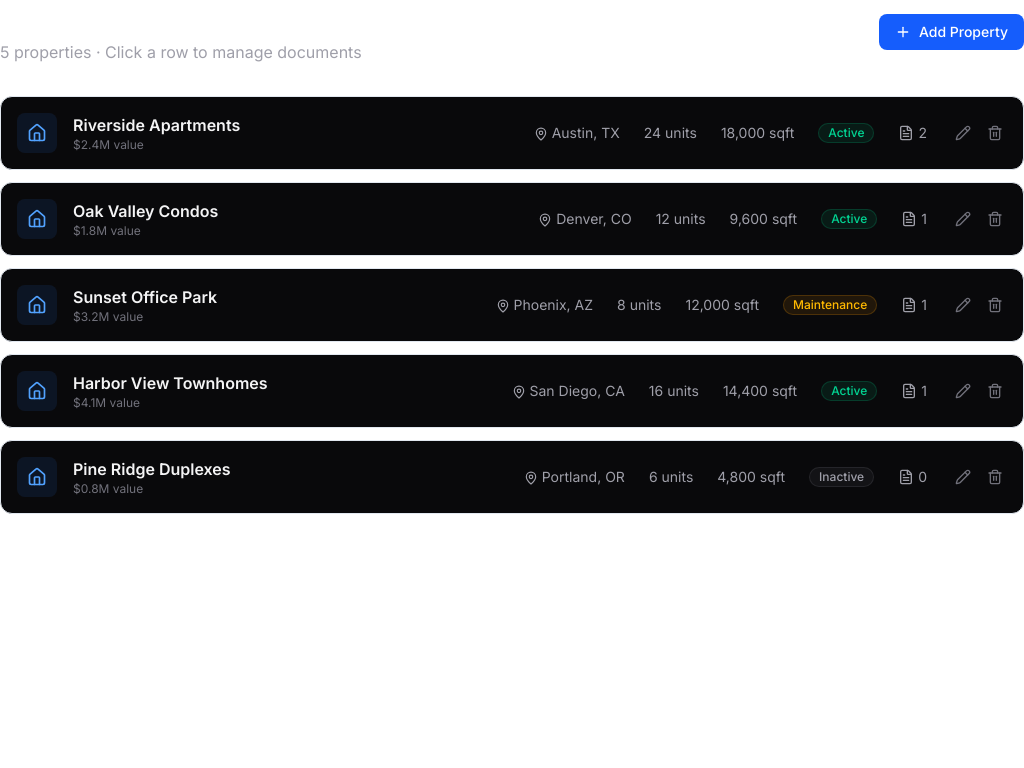
Test: PropertiesPage (Sprint 5) › opens the Add Document modal within an expanded property
// Expand Riverside
What coordinates should you click on to do the following:
click the text "Riverside Apartments"
I would click on:
 (157, 125)
Its box is 73,113 -> 240,137.
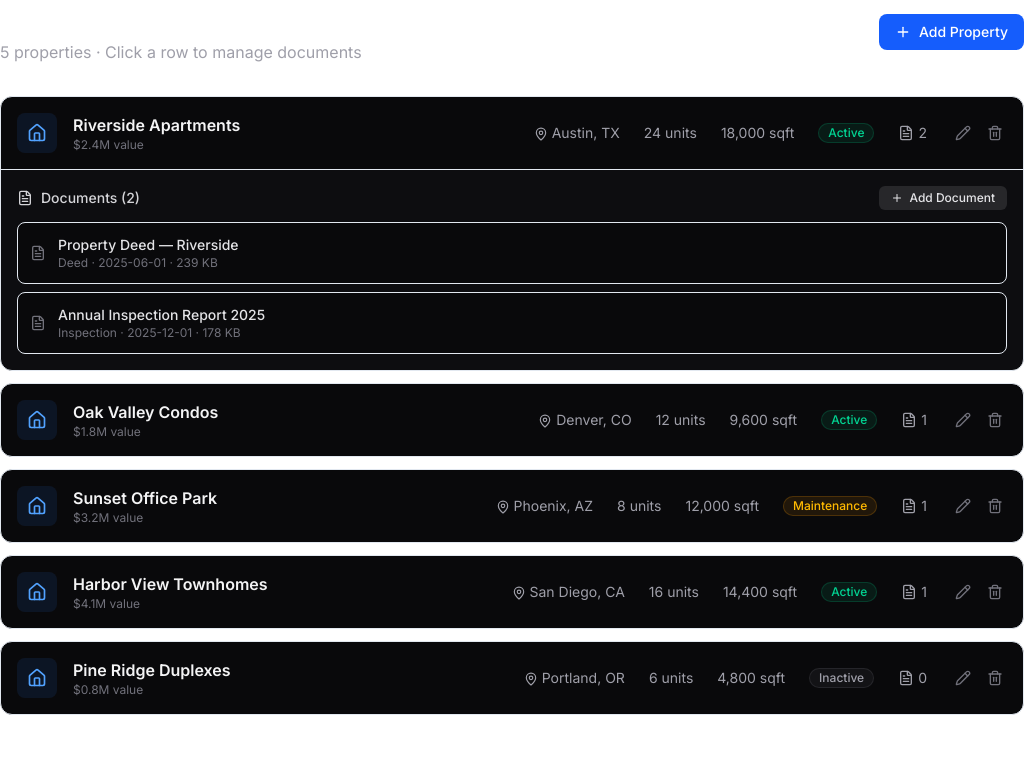
// Click "Add Document"
What coordinates should you click on to do the following:
click the button "Add Document"
I would click on:
 (943, 198)
Its box is 880,186 -> 1007,210.
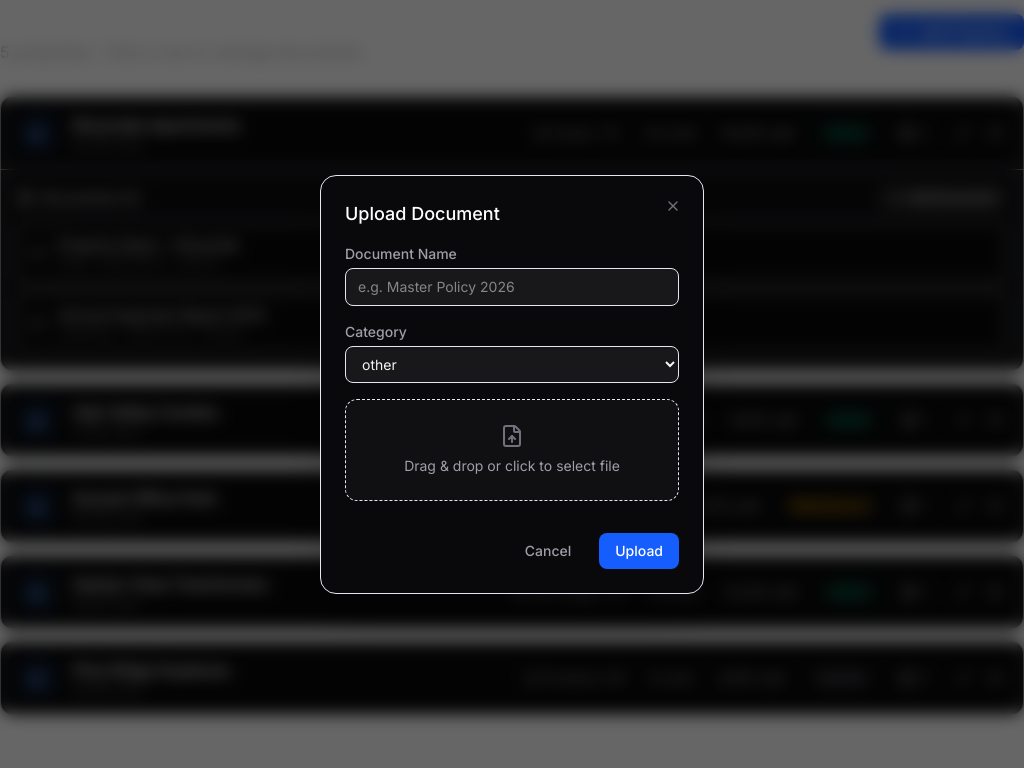
Expected: the heading "Upload Document" is shown, 345,202 -> 500,224
Expected: the text "Document Name" is shown, 345,244 -> 457,262
